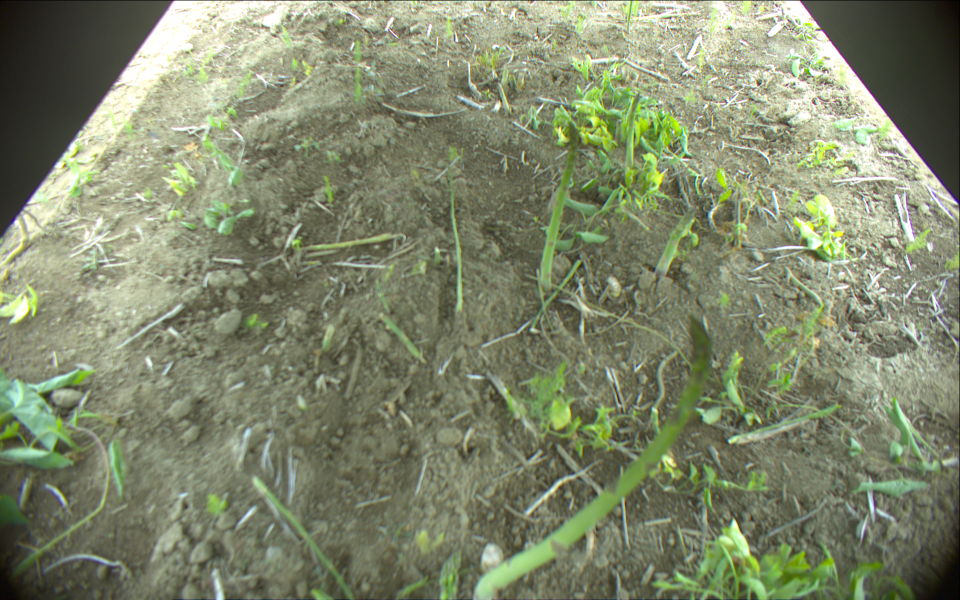aspa: (470, 314, 711, 600), (254, 478, 352, 600), (538, 118, 578, 291), (655, 211, 695, 277), (299, 230, 404, 253), (450, 186, 464, 312), (624, 93, 641, 179), (497, 82, 511, 111), (626, 1, 633, 33)
